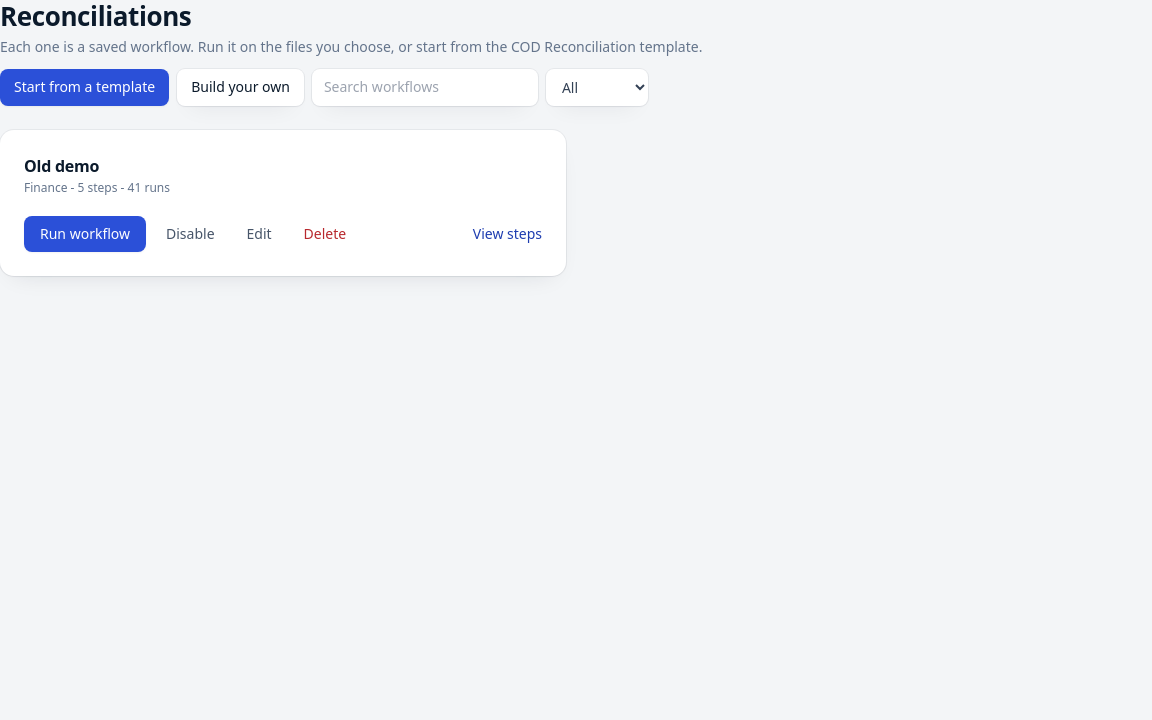
Test: deleting a workflow that has runs › asks clearly first, says how many runs go, and only then erases them
The image size is (1152, 720).
Click the button "Delete".
click(325, 234)  # box [292,216,358,252]
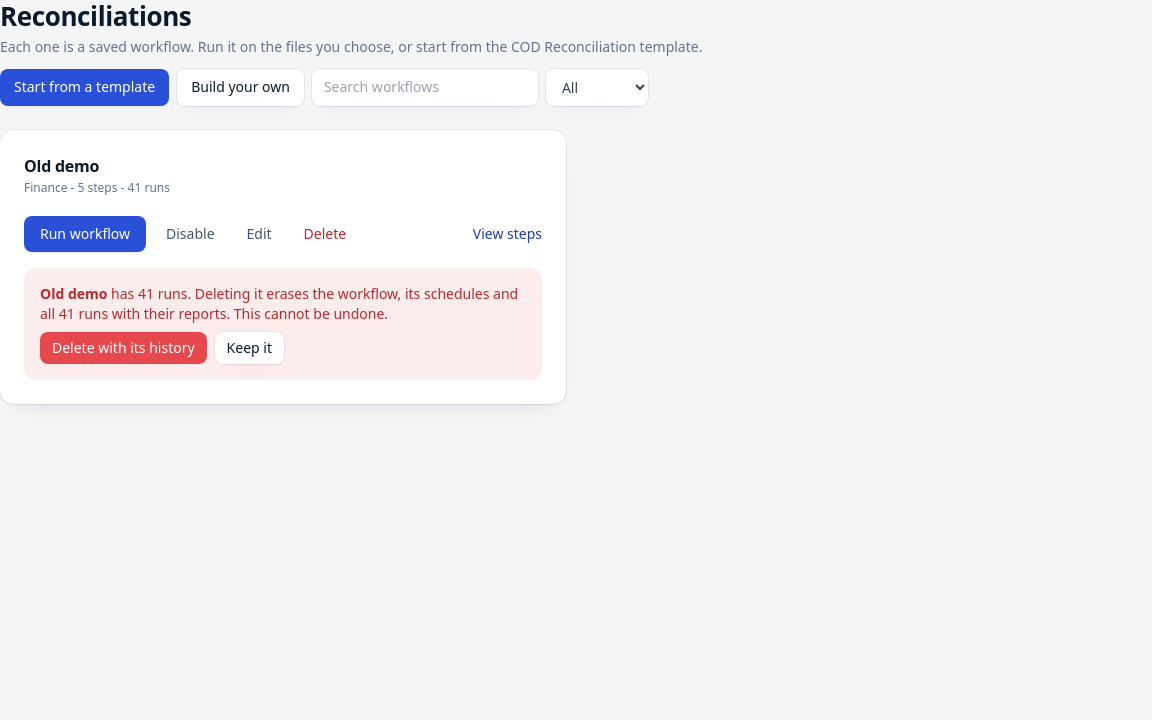
Expected: the dialog shows "all 41 runs", [24,268,542,380]
Click the button "Delete with its history".
click(123, 348)  # box [40,332,207,364]
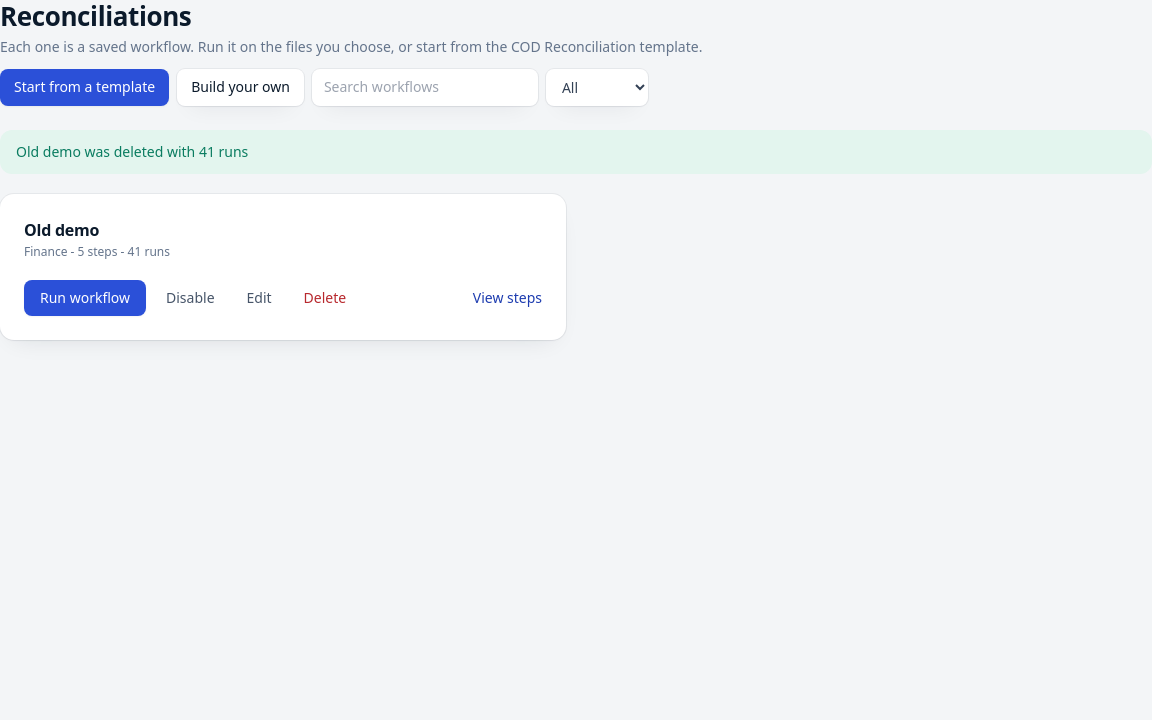
Expected: the text "Old demo was deleted with 41 runs" is shown, [0,130,1151,174]
